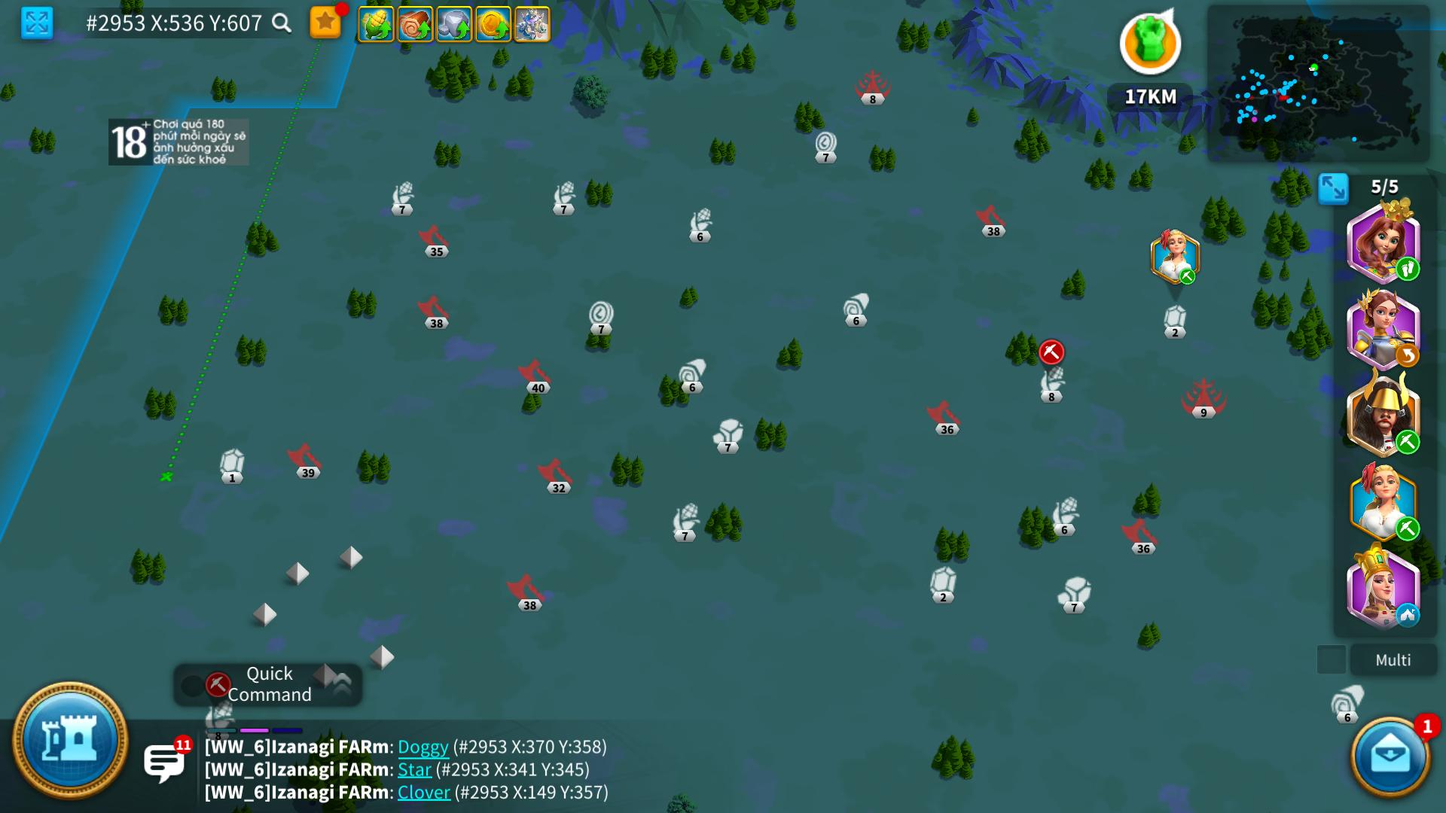gem-z-out: (929, 565, 957, 605), (1164, 304, 1186, 339)
march_idle: (1395, 602, 1422, 628)
march_returning: (1395, 343, 1419, 367)
